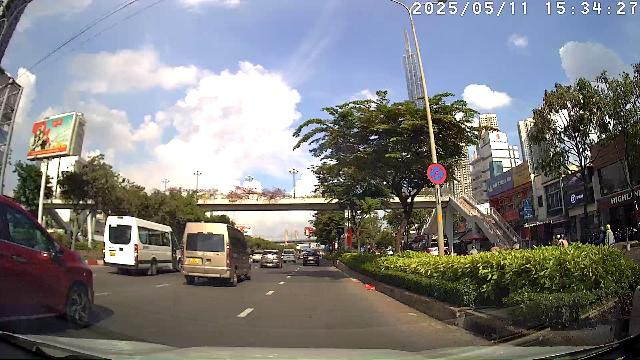130-cam-dung-va-do-xe: (428, 164, 447, 184)
